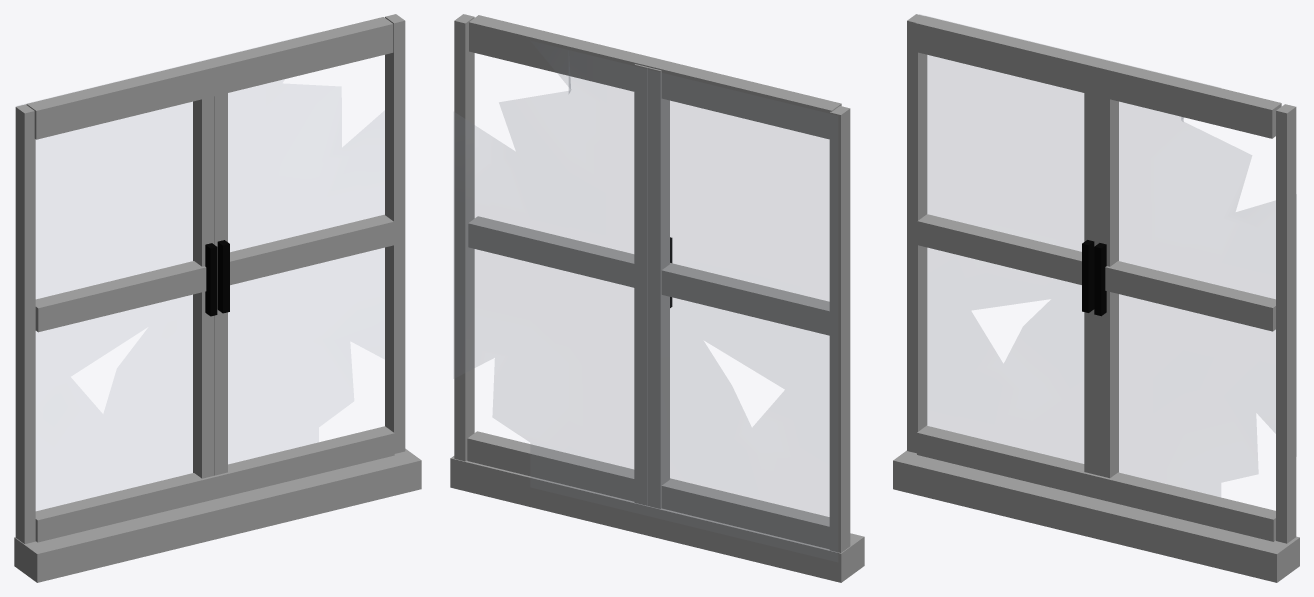
Rendered from ventana.fbx.
3 renders of one model, left to right at view 1: azimuth 30°, elevation 25°; view 2: azimuth 150°, elevation 25°; view 3: azimuth 330°, elevation 25°, orthographic.
Parts seen in each view (by area): view 1: pPlane1; view 2: pPlane1; view 3: pPlane1.
Part boxes in pixels (<box>): pPlane1: <box>14,14,421,582</box>; pPlane1: <box>450,14,864,582</box>; pPlane1: <box>893,14,1299,582</box>.
Bounding box in the file's own units: 1.96 × 2.24 × 0.2438.
